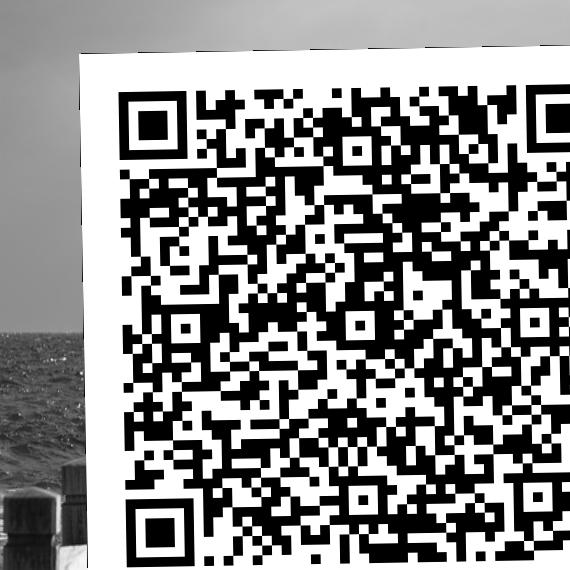qr_code: (79, 62, 569, 552)
